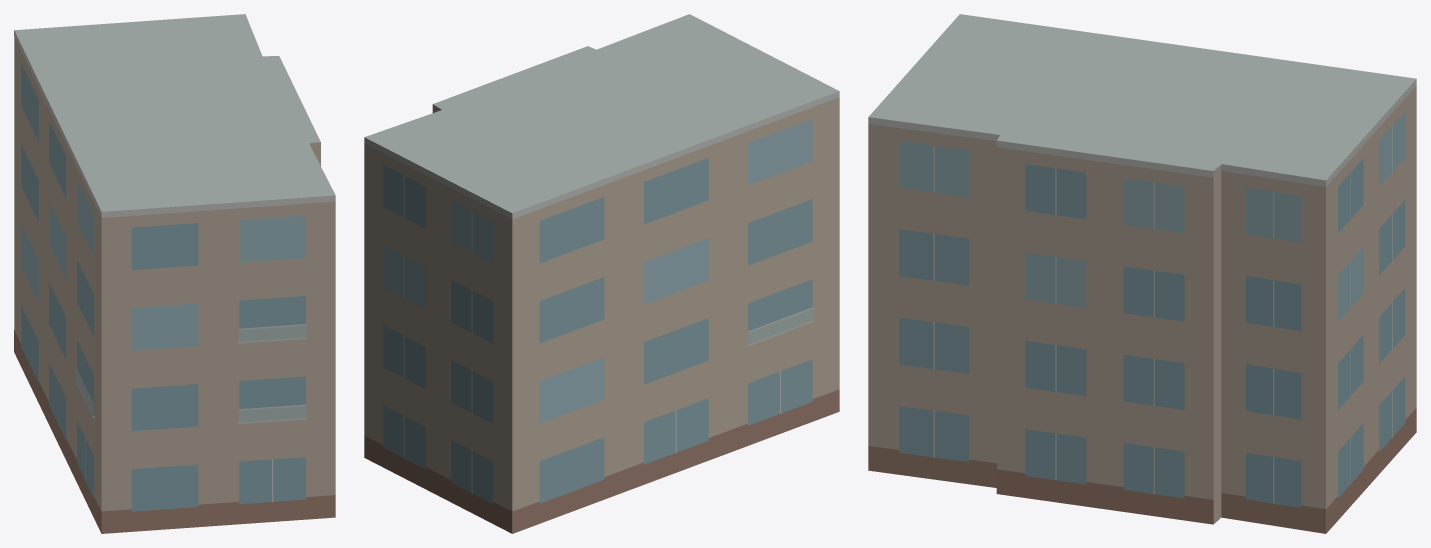
Rendered from survey-upis-32885975.glb.
3 views of the same model, side by side, from view 1: azimuth 30°, elevation 25°; view 2: azimuth 150°, elevation 25°; view 3: azimuth 270°, elevation 25° (orthographic). The views are drawn at different scales.
Parts seen in each view (by area): view 1: survey-upis-32885975.tmp; view 2: survey-upis-32885975.tmp; view 3: survey-upis-32885975.tmp.
Part boxes in pixels (box(x1,y1,x2,y2)): survey-upis-32885975.tmp: box(14, 14, 335, 533); survey-upis-32885975.tmp: box(364, 14, 839, 533); survey-upis-32885975.tmp: box(868, 14, 1416, 533).
Size of the model in its own units: 13.04 by 12.9 by 18.15.
